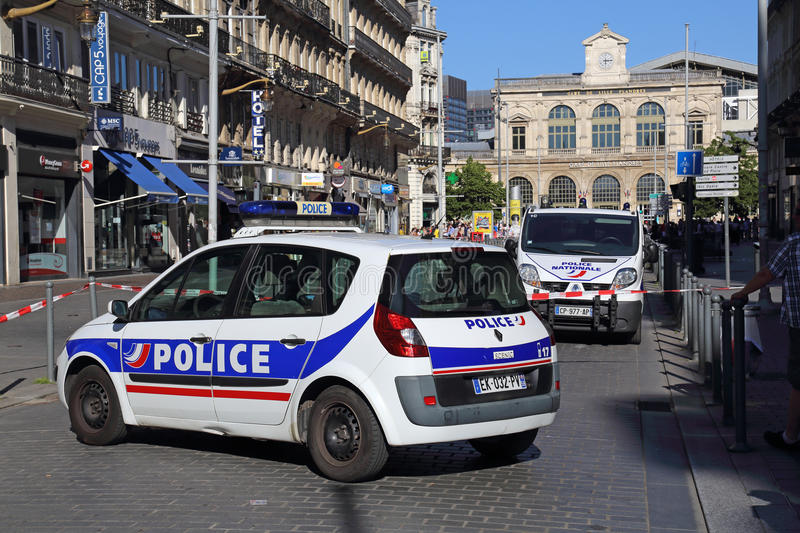special: (56, 200, 558, 484), (510, 198, 648, 347)
